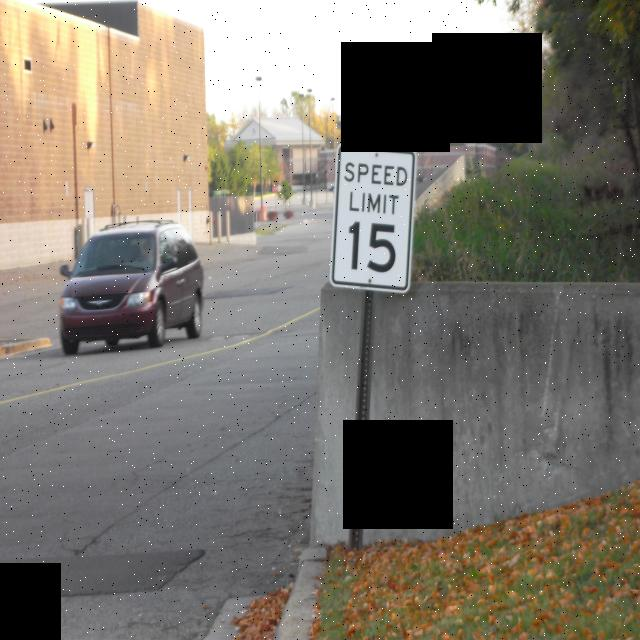regulatory: (330, 135, 418, 302)
